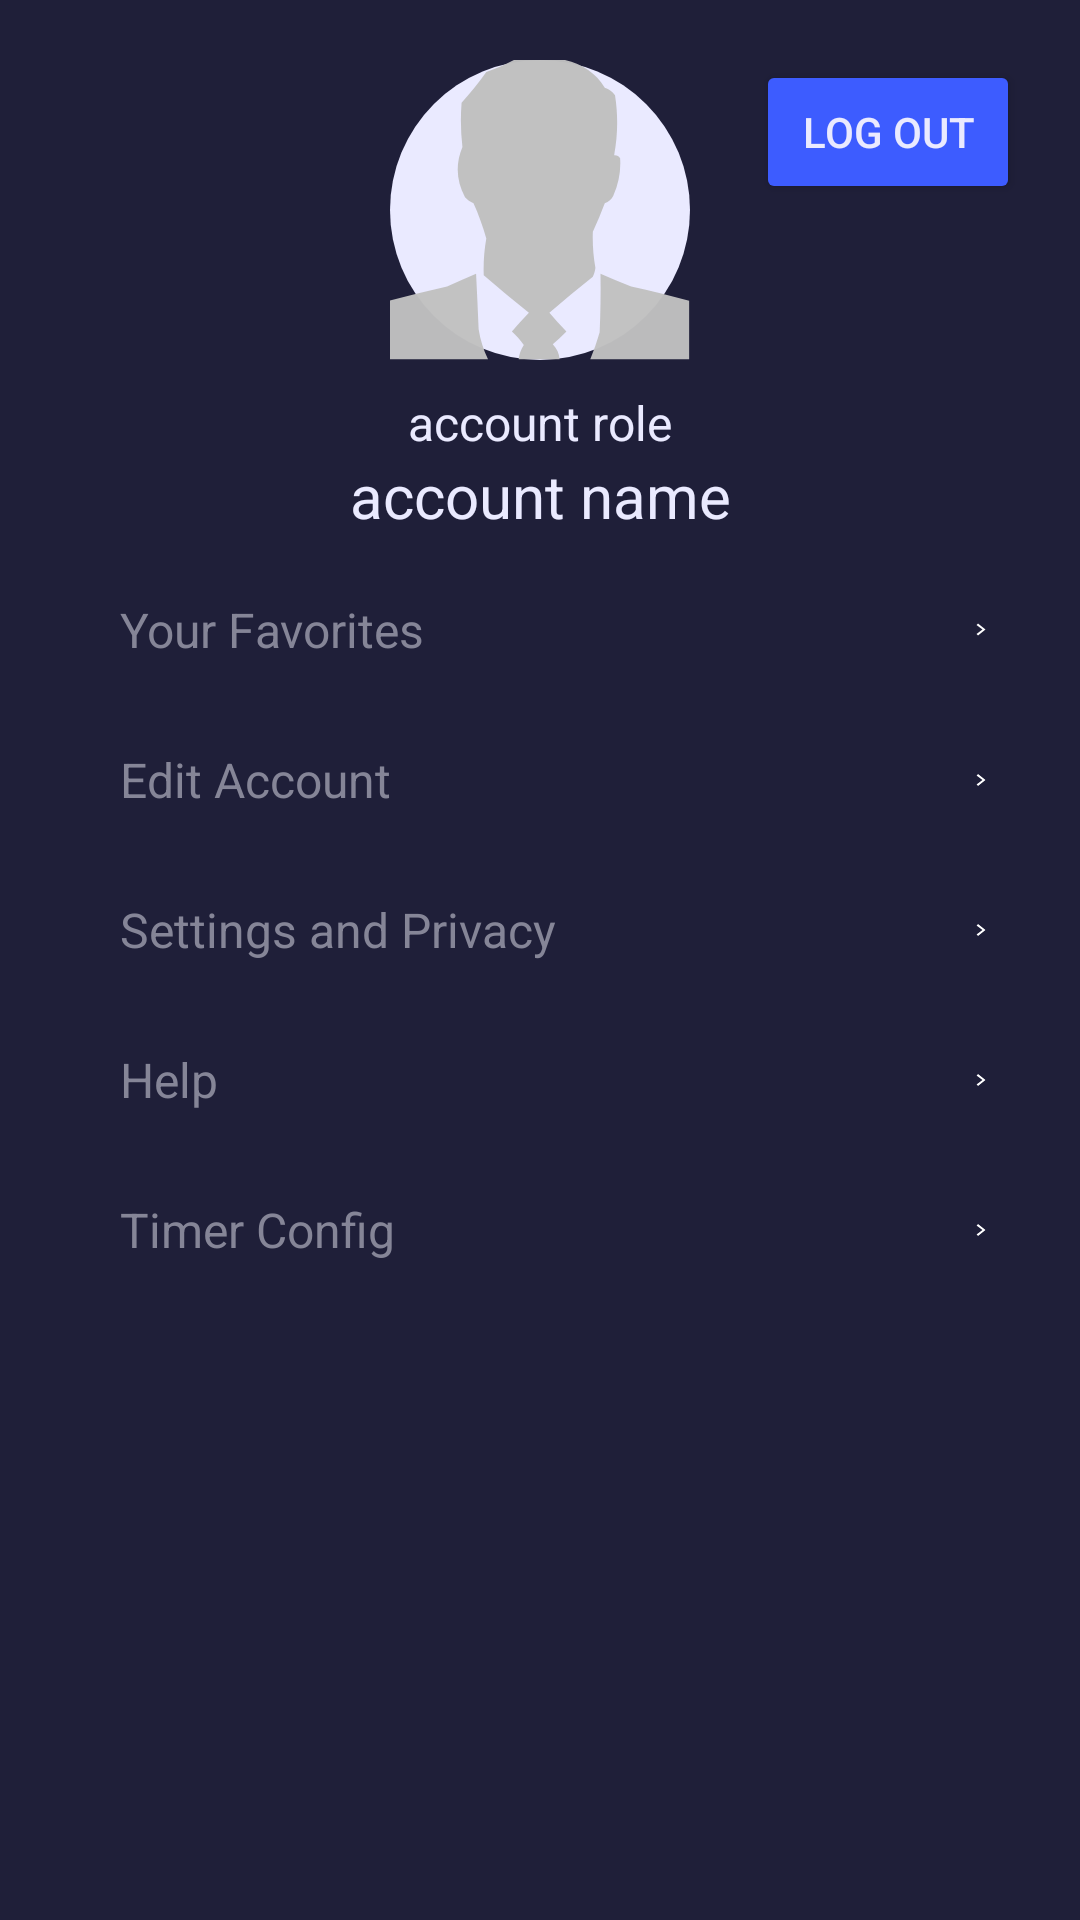

Point at icon controls on the screen. Image size 1080px×1920px, points as (x,y).
avatar: (540,210)
